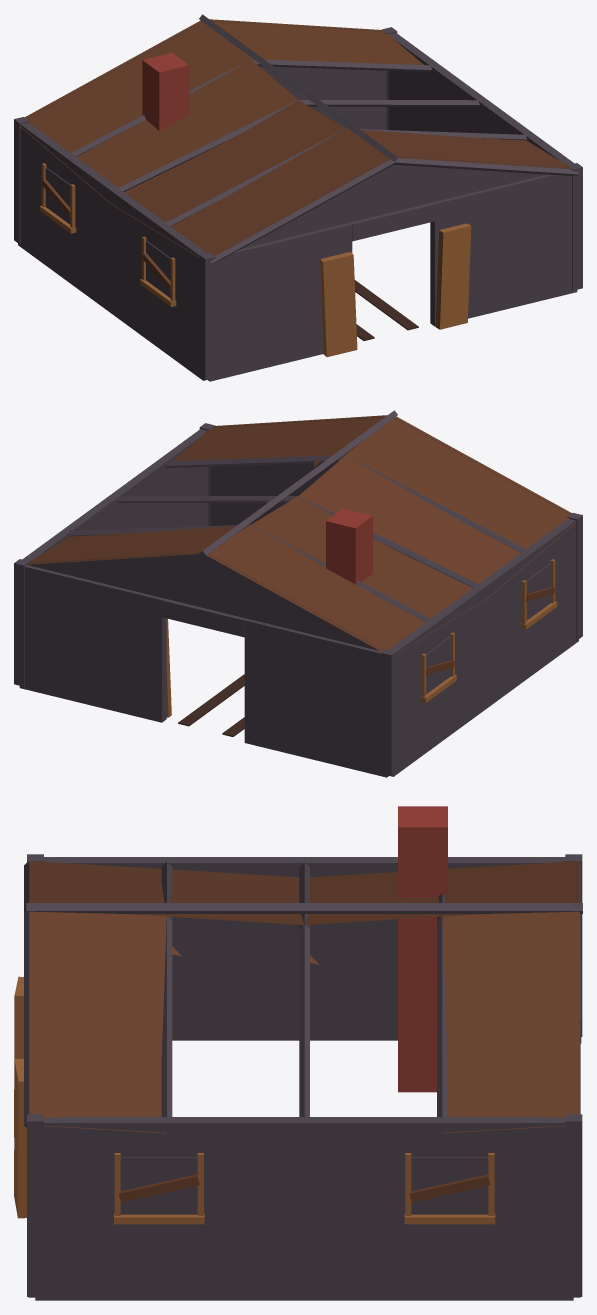
The model's file is bld.farm-house-ruin.burned.lod1.glb.
The picture shows the model from 3 angles, top to bottom: view 1: azimuth 30°, elevation 25°; view 2: azimuth 150°, elevation 25°; view 3: azimuth 270°, elevation 25°; orthographic projection. The views are drawn at different scales.
Visible parts, largest first — view 1: body; view 2: body; view 3: body.
Boxes of the visible parts, x1,y1,x2,y2 form: body: (14, 14, 582, 381); body: (14, 410, 582, 777); body: (14, 806, 582, 1300).
Size of the model in its own units: 8.41 by 4.11 by 7.4.
